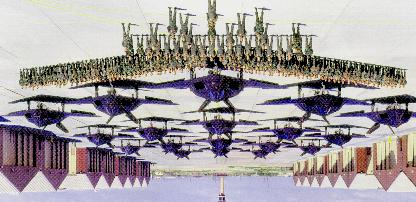E7: (145, 57, 290, 113), (60, 80, 180, 124), (256, 81, 374, 125), (0, 97, 102, 133), (333, 97, 415, 135), (174, 108, 264, 140), (115, 119, 193, 146), (246, 119, 326, 145), (68, 125, 138, 149), (300, 126, 370, 149), (144, 136, 208, 156), (188, 132, 252, 150), (239, 136, 297, 154), (104, 140, 158, 156), (283, 140, 336, 156), (159, 146, 205, 160), (237, 146, 283, 160), (199, 147, 243, 159)
